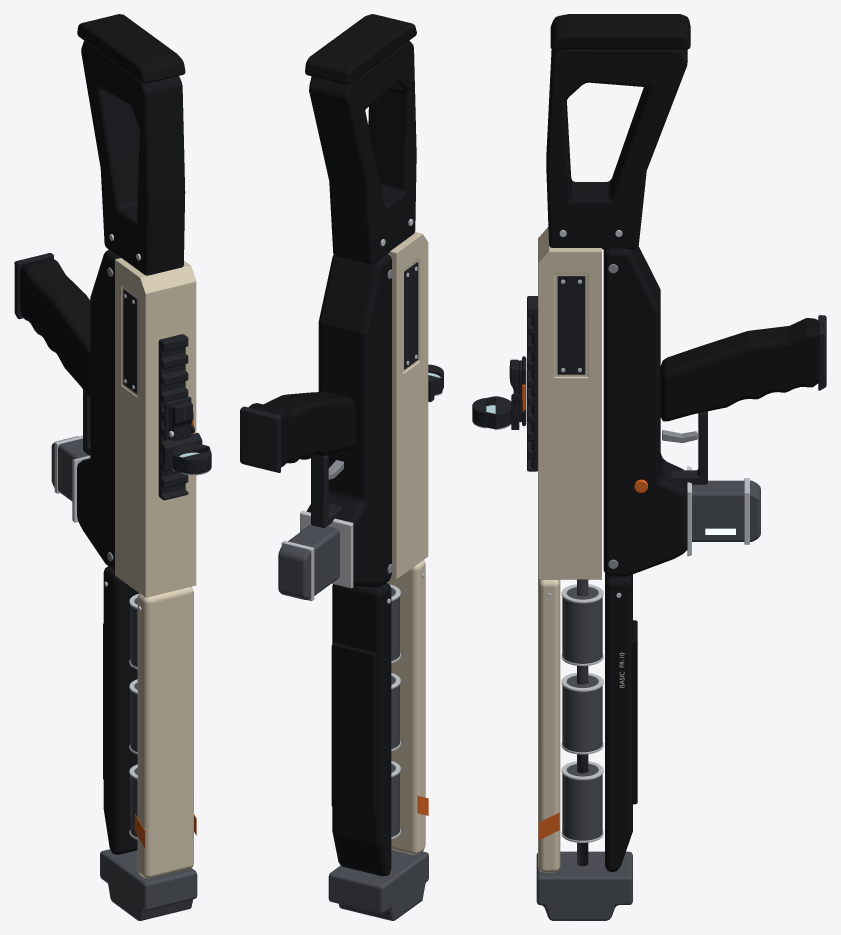
The model's file is BASIC-10-v2.1.fbx.
3 renders of one model, left to right at view 1: azimuth 30°, elevation 25°; view 2: azimuth 150°, elevation 25°; view 3: azimuth 270°, elevation 25°, orthographic. The views are drawn at different scales.
Visible parts, largest first — view 1: upper, stock, chamber_hood, lower, handguard, grip, emitter, butt_pad, rail, coils, side_panel_r, energy_cell (+5 smaller); view 2: lower, stock, upper, handguard, chamber_hood, handguard_grip, grip, emitter, butt_pad, energy_cell, grip_cap, coils (+3 smaller); view 3: lower, upper, stock, grip, coils, handguard, chamber_hood, emitter, butt_pad, energy_cell, side_panel_l, rail (+4 smaller).
Part boxes in pixels (<box>): upper: <box>115,258,196,597</box>; stock: <box>81,41,185,275</box>; chamber_hood: <box>137,586,193,878</box>; lower: <box>77,249,119,569</box>; handguard: <box>103,566,139,854</box>; grip: <box>20,258,90,398</box>; emitter: <box>100,849,197,920</box>; butt_pad: <box>77,14,185,83</box>; rail: <box>158,334,188,500</box>; coils: <box>130,597,137,837</box>; side_panel_r: <box>123,289,137,393</box>; energy_cell: <box>51,436,88,501</box>; lower: <box>306,254,391,587</box>; stock: <box>309,40,416,264</box>; upper: <box>387,232,428,579</box>; handguard: <box>332,583,391,876</box>; chamber_hood: <box>386,560,425,854</box>; handguard_grip: <box>331,642,376,816</box>; grip: <box>249,391,356,467</box>; emitter: <box>328,850,428,920</box>; butt_pad: <box>305,14,416,84</box>; energy_cell: <box>278,524,339,599</box>; grip_cap: <box>240,406,280,472</box>; coils: <box>391,588,399,837</box>; lower: <box>603,246,687,576</box>; upper: <box>538,227,601,579</box>; stock: <box>546,49,687,249</box>; grip: <box>660,318,818,421</box>; coils: <box>562,587,602,840</box>; handguard: <box>605,574,632,872</box>; chamber_hood: <box>538,579,560,872</box>; emitter: <box>536,851,632,920</box>; butt_pad: <box>550,14,690,49</box>; energy_cell: <box>692,480,760,541</box>; side_panel_l: <box>557,276,585,374</box>; rail: <box>527,296,537,471</box>.
Bounding box in the file's own units: 0.0467 × 0.7006 × 0.2541.
